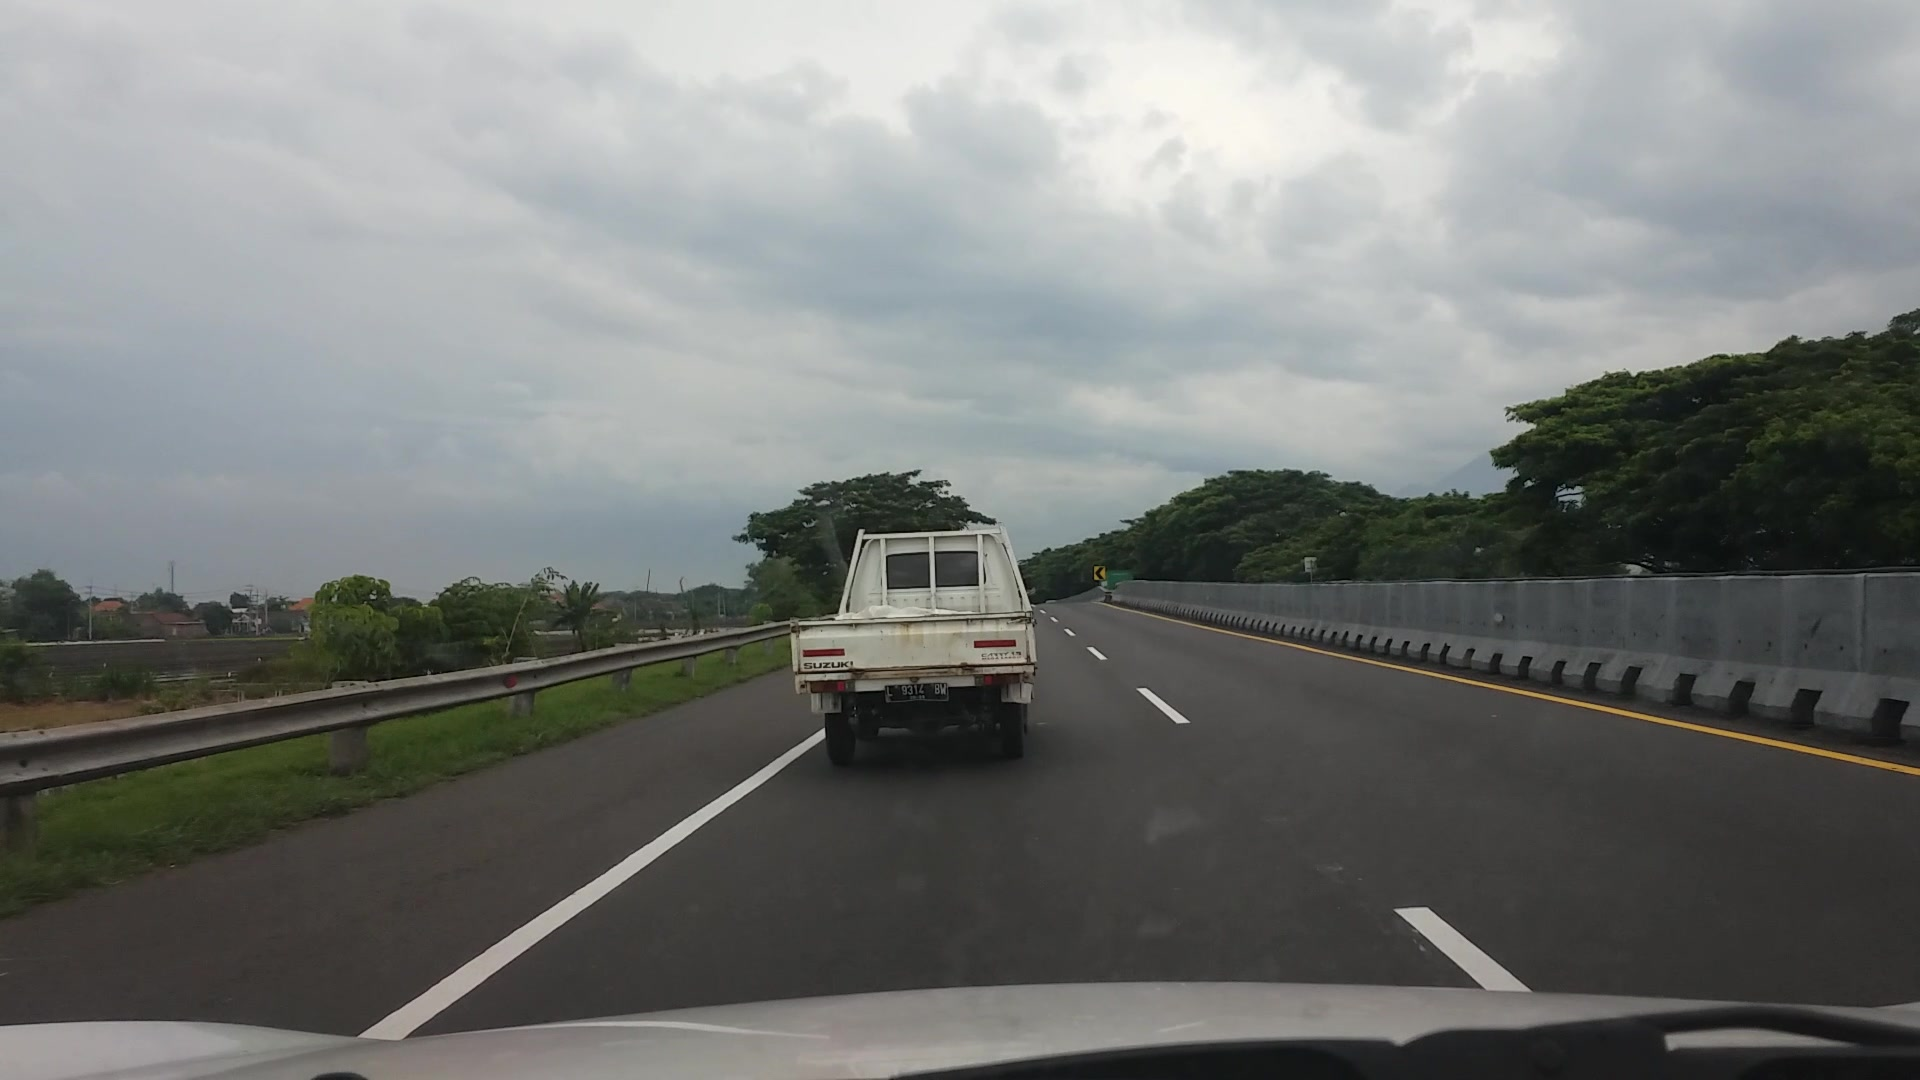plate_positive: (885, 683, 947, 702)
